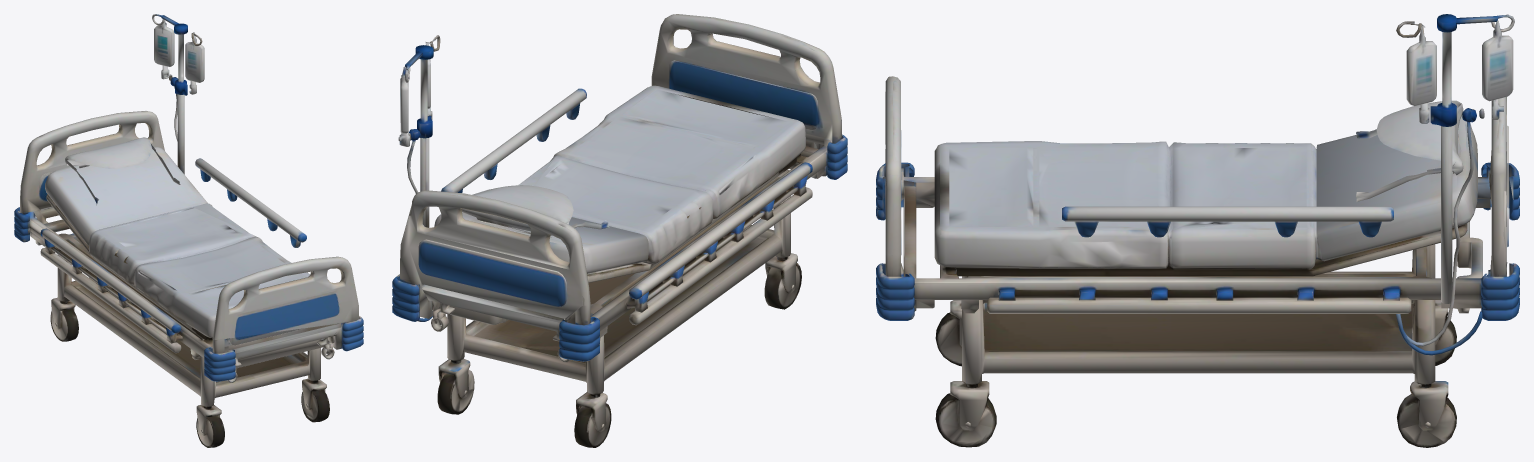
Rendered from a_hospital_gurney_76baf34a_v3.glb.
3 views of the same model, side by side, from view 1: azimuth 30°, elevation 25°; view 2: azimuth 150°, elevation 25°; view 3: azimuth 270°, elevation 25° (orthographic). The views are drawn at different scales.
Parts seen in each view (by area): view 1: material; view 2: material; view 3: material.
Part boxes in pixels (left/top/right/bottom): material: left=14, top=14, right=363, bottom=447; material: left=392, top=14, right=847, bottom=447; material: left=876, top=14, right=1519, bottom=447.
Bounding box in the file's own units: 0.8865 × 1.43 × 1.9.
1 material, 1 textured.
